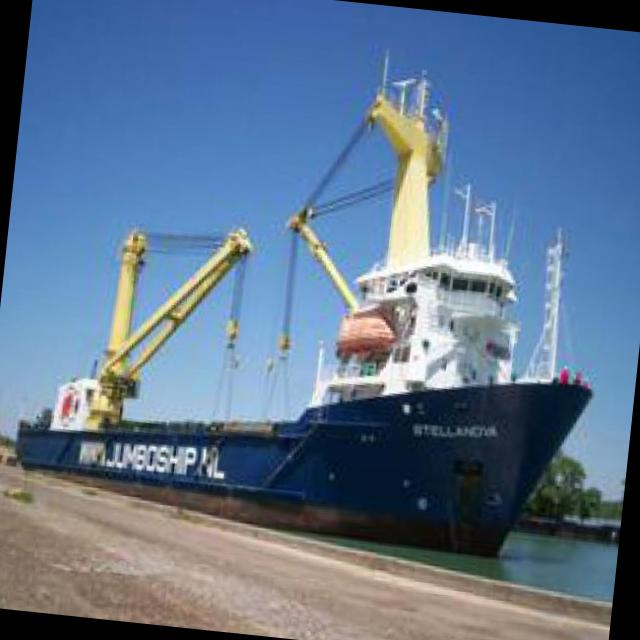boat: (71, 284, 570, 564)
